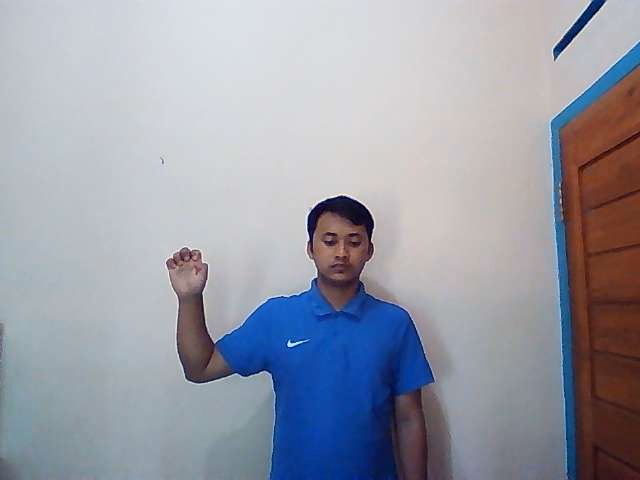E: (165, 246, 211, 299)
